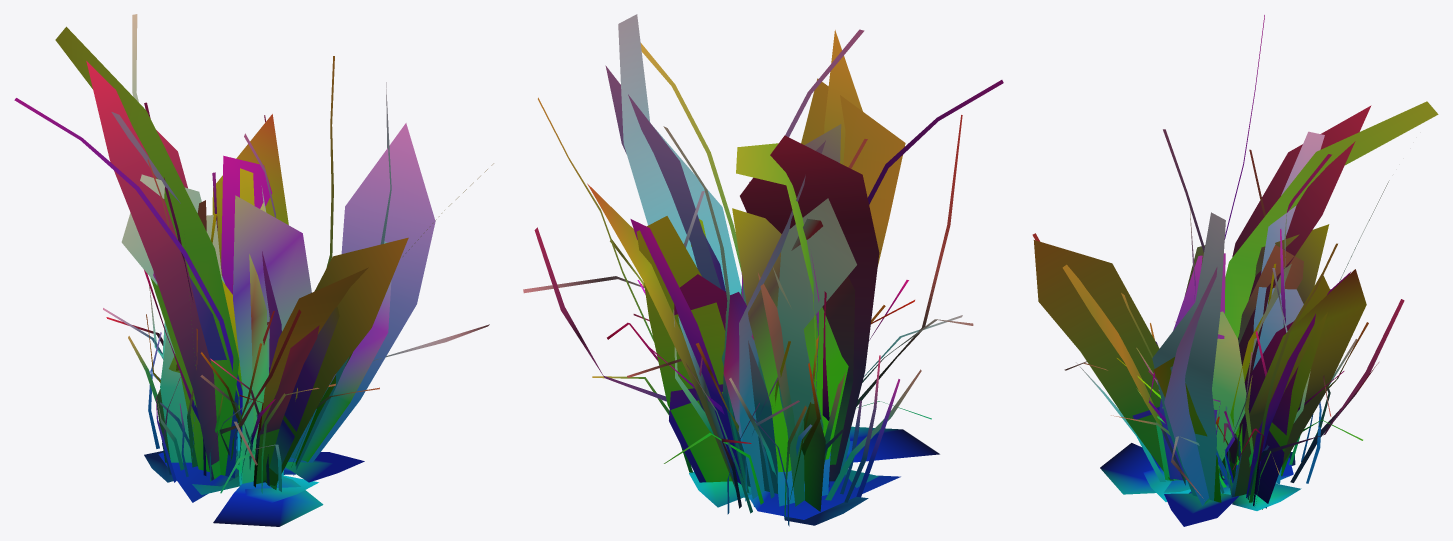
The model's file is uddmcgbia_VarF_LOD0.fbx.
3 views of the same model, side by side, from view 1: azimuth 30°, elevation 25°; view 2: azimuth 150°, elevation 25°; view 3: azimuth 270°, elevation 25° (orthographic). The views are drawn at different scales.
Parts seen in each view (by area): view 1: _855f_VarF_LOD1; view 2: _855f_VarF_LOD1; view 3: _855f_VarF_LOD1.
Boxes of the visible parts, <box> form: _855f_VarF_LOD1: <box>14,14,493,526</box>; _855f_VarF_LOD1: <box>523,14,1003,526</box>; _855f_VarF_LOD1: <box>1032,15,1438,526</box>.
Size of the model in its own units: 47.42 by 42.5 by 40.74.
